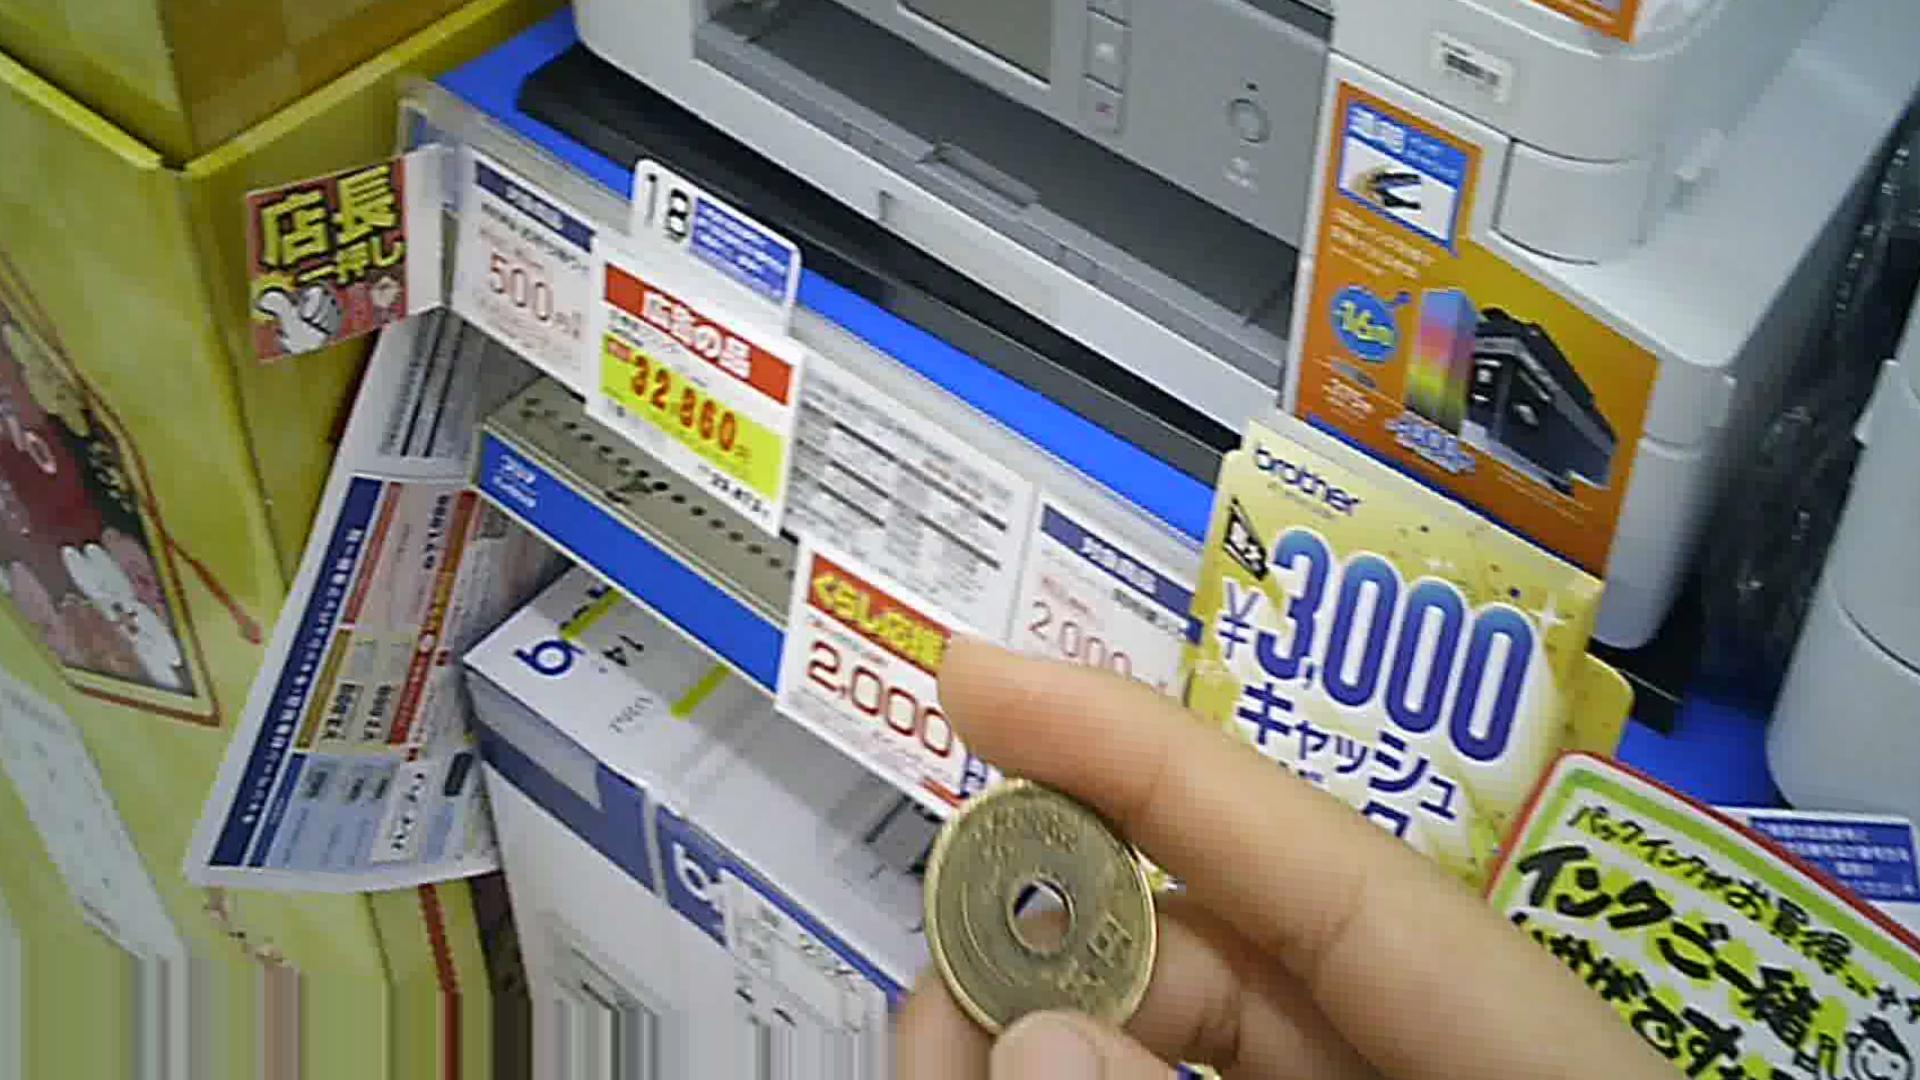5 Yen: (931, 771, 1174, 1054)
